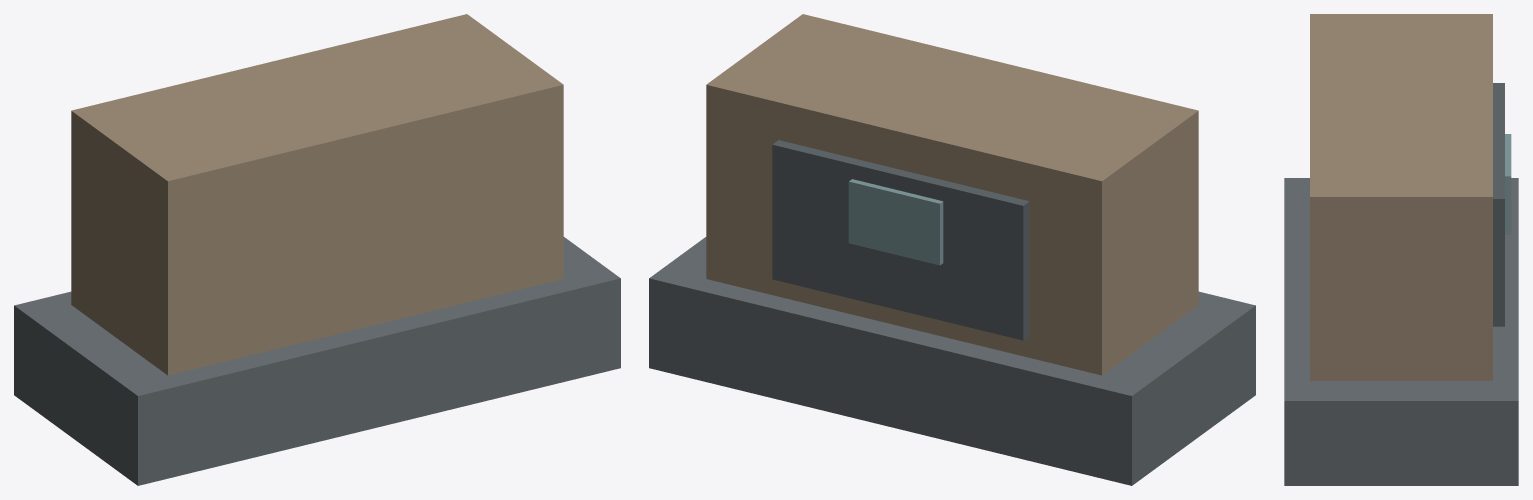
Rendered from iz3_production_workbench_02.glb.
3 views of the same model, side by side, from view 1: azimuth 30°, elevation 25°; view 2: azimuth 150°, elevation 25°; view 3: azimuth 270°, elevation 25° (orthographic). The views are drawn at different scales.
Visible parts, largest first — view 1: cabinet, base; view 2: cabinet, base, panel, display; view 3: cabinet, base, panel, display.
Part boxes in pixels (x1,y1,x2,y2): cabinet: (71, 14, 563, 375); base: (14, 237, 620, 485); cabinet: (706, 14, 1198, 375); base: (649, 237, 1255, 485); panel: (772, 140, 1029, 340); display: (848, 179, 943, 265); cabinet: (1310, 14, 1492, 380); base: (1284, 178, 1518, 485); panel: (1493, 83, 1504, 326); display: (1505, 134, 1511, 234).
Size of the model in its own units: 1.8 by 1.01 by 0.8.
